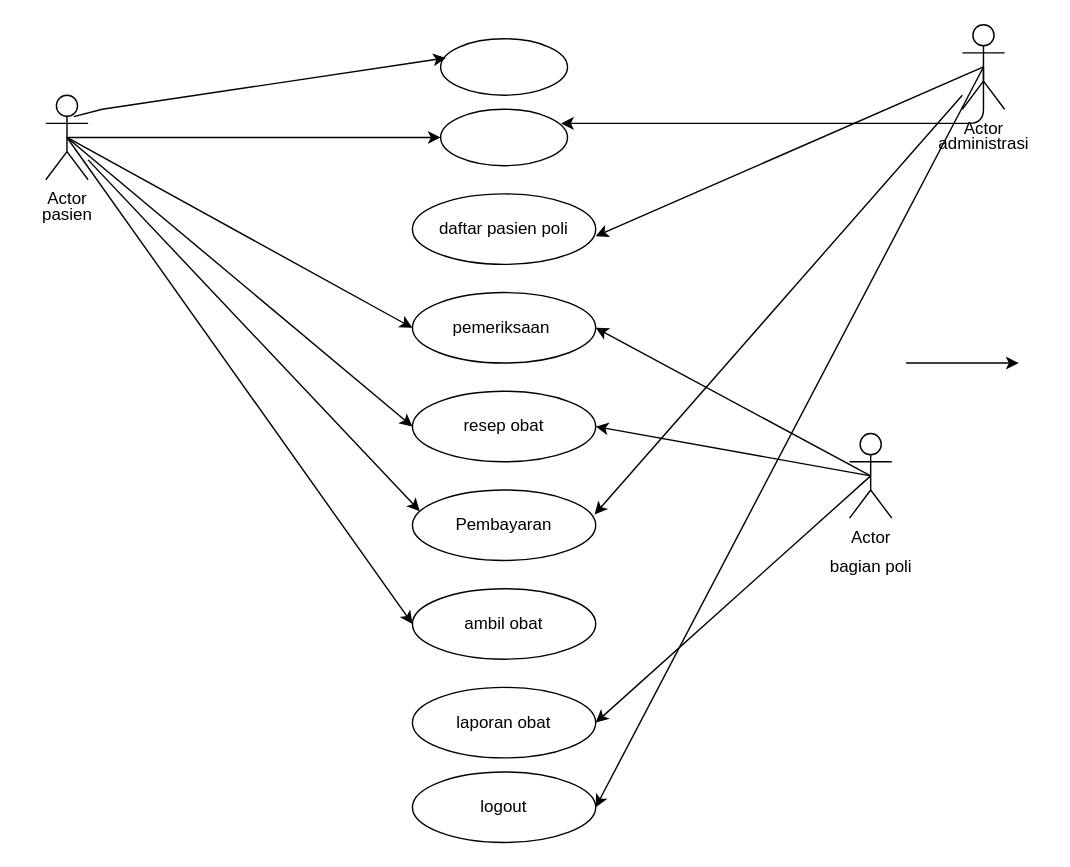
This 1070x867 diagram has some shape labels left out. Here are the shapes that lost their labels. From the top down, the centre of each, then its label:
point 503,66: login
point 503,137: pendaftaran
